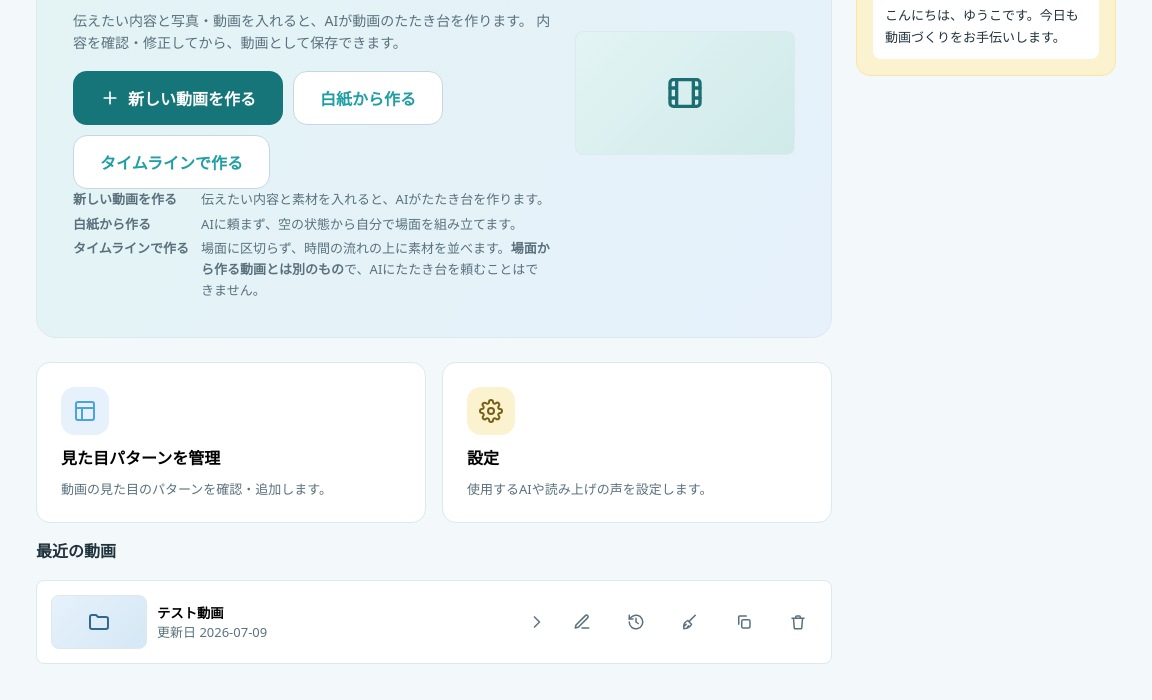
it: HomeScreen プロジェクトを開く破棄ガード（#547 P1-2） › 確認バナー表示中は削除も止まる（確認中の開く先を消せない）
The width and height of the screenshot is (1152, 700).
(page scrolled)
Click the button "テスト動画 更新日 2026-07-09" at [99, 622], box [51,595,547,649]
(page scrolled)
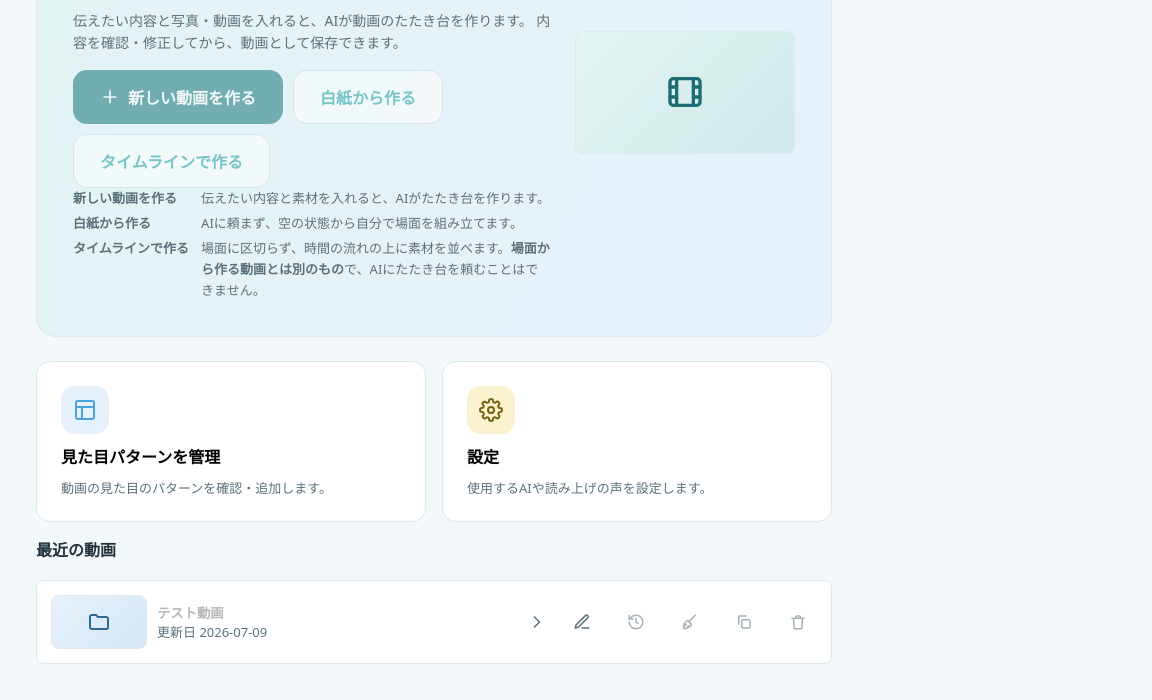
Now the button named "「テスト動画」を削除" is disabled, box [779,603,817,641]
